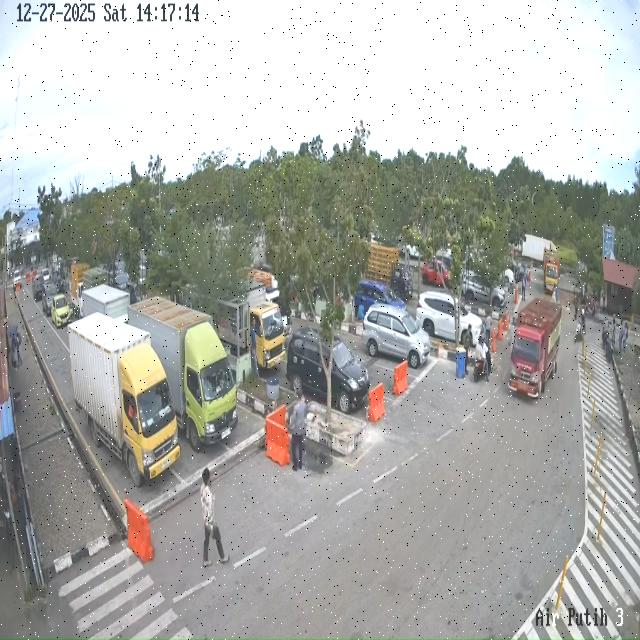Golongan IVA: (286, 327, 370, 414), (363, 304, 430, 368), (416, 291, 484, 346), (354, 280, 406, 319), (463, 271, 506, 308), (51, 294, 72, 328), (42, 281, 59, 316), (32, 274, 45, 301)
Golongan VB: (68, 314, 181, 486), (128, 297, 238, 451), (217, 283, 285, 369), (508, 298, 562, 398), (543, 249, 560, 293)
